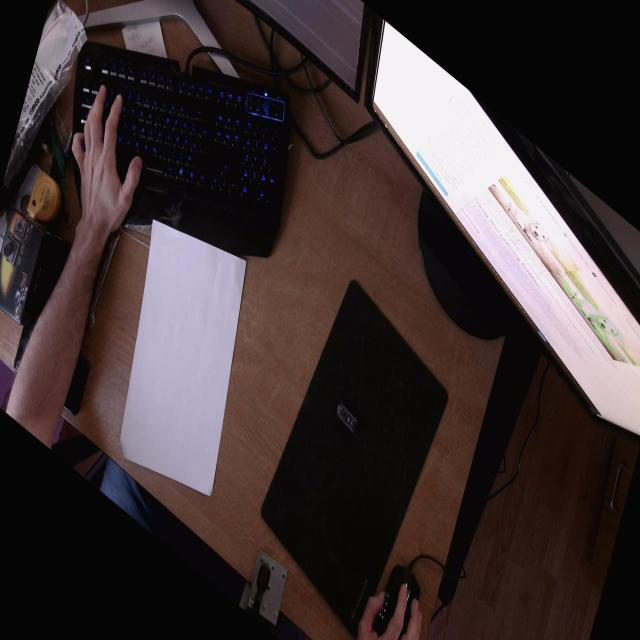keyboard-with-hands: (69, 39, 296, 262)
